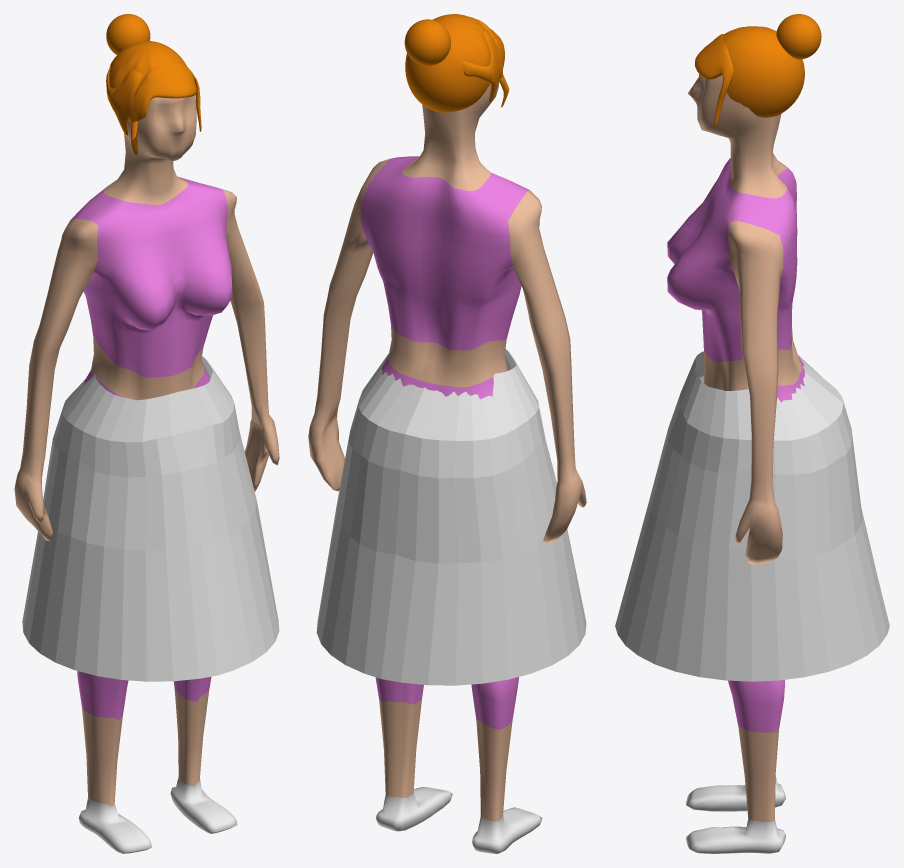
Rendered from OBOJEN KARAKTER (1).fbx.
3 renders of one model, left to right at view 1: azimuth 30°, elevation 25°; view 2: azimuth 150°, elevation 25°; view 3: azimuth 270°, elevation 25°, orthographic. The views are drawn at different scales.
Visible parts, largest first — view 1: Cylinder, Cube, Cube.001; view 2: Cylinder, Cube, Cube.001; view 3: Cylinder, Cube, Cube.001.
Part boxes in pixels (box(x1,y1,x2,y2)): Cylinder: box(22, 356, 279, 681); Cube: box(14, 95, 279, 853); Cube.001: box(106, 14, 201, 154); Cylinder: box(316, 349, 586, 685); Cube: box(308, 81, 586, 853); Cube.001: box(404, 14, 509, 112); Cylinder: box(615, 351, 889, 681); Cube: box(667, 74, 804, 853); Cube.001: box(695, 14, 821, 127).
Bounding box in the file's own units: 219 × 652 × 200.
